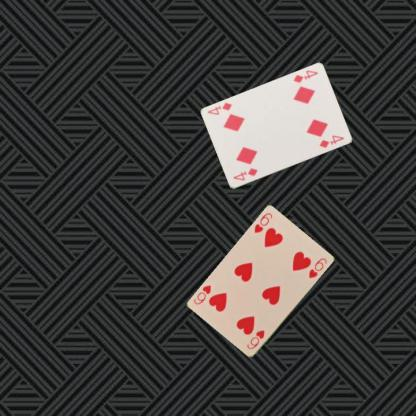4d: (291, 68, 319, 85), (231, 166, 258, 182)
6h: (252, 210, 274, 235), (244, 328, 266, 350)
